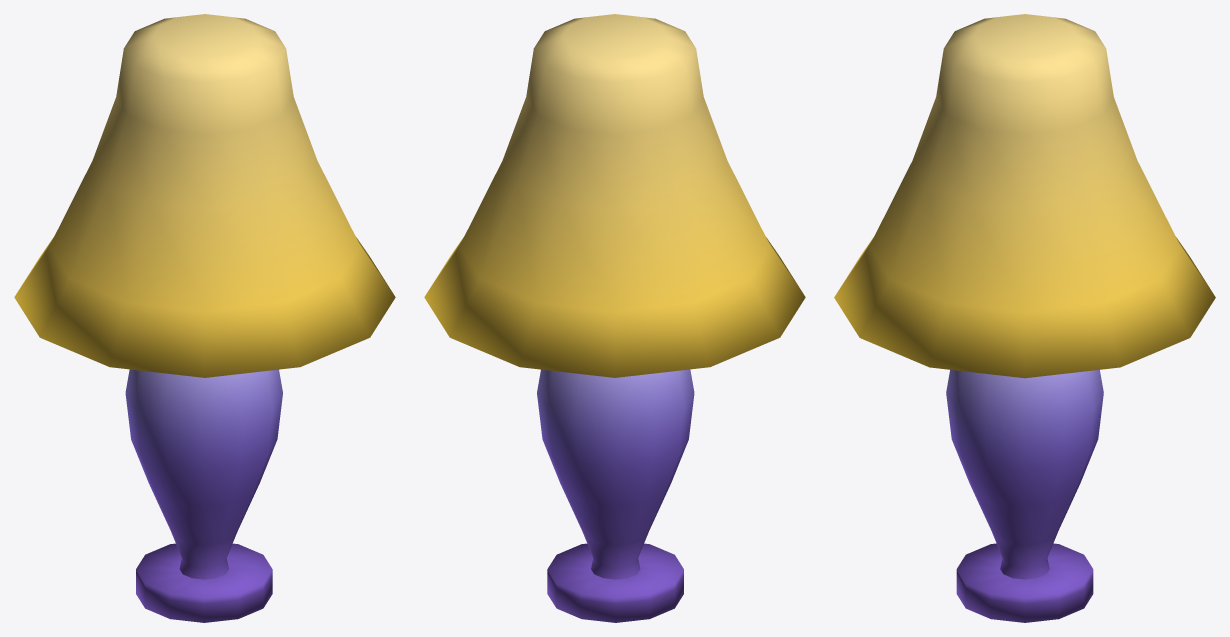
The model's file is Lamp.fbx.
3 views of the same model, side by side, from view 1: azimuth 30°, elevation 25°; view 2: azimuth 150°, elevation 25°; view 3: azimuth 270°, elevation 25° (orthographic).
Visible parts, largest first — view 1: Lamp; view 2: Lamp; view 3: Lamp.
Part boxes in pixels (bbox=[...]): Lamp: bbox=[14, 14, 395, 622]; Lamp: bbox=[424, 14, 805, 622]; Lamp: bbox=[834, 14, 1215, 622].
Bounding box in the file's own units: 0.3793 × 0.6125 × 0.3793.
